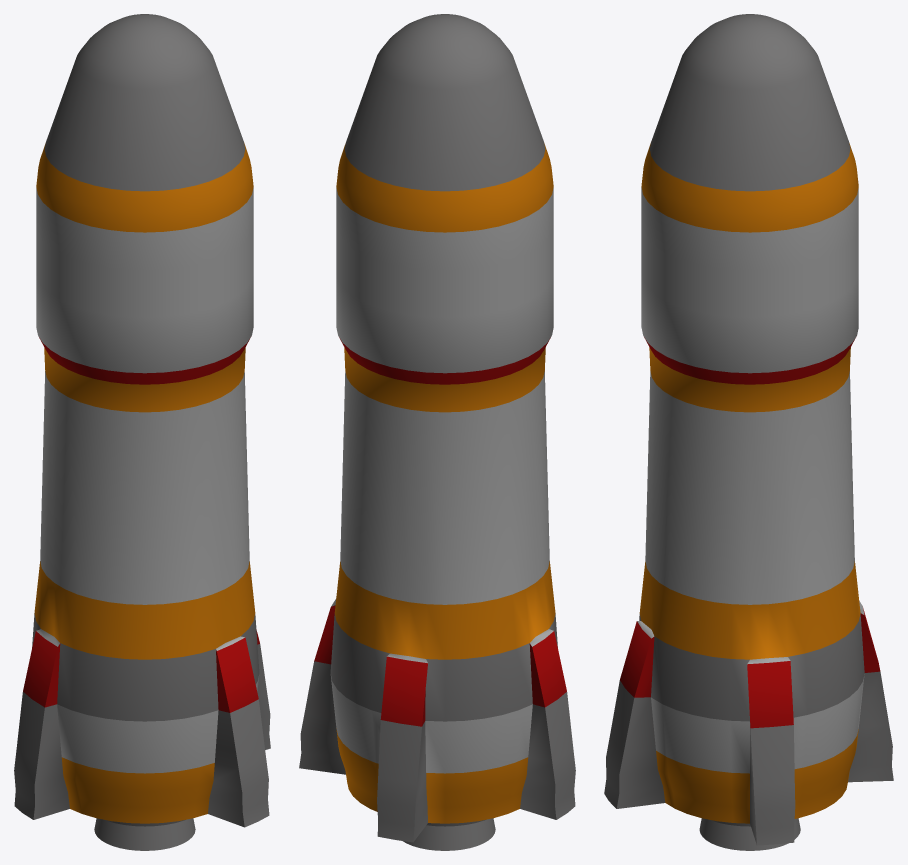
Rendered from torpedo.fbx.
3 views of the same model, side by side, from view 1: azimuth 30°, elevation 25°; view 2: azimuth 150°, elevation 25°; view 3: azimuth 270°, elevation 25° (orthographic).
Visible parts, largest first — view 1: Capsule; view 2: Capsule; view 3: Capsule.
Boxes of the visible parts, bbox=[...] form: Capsule: bbox=[14, 14, 270, 850]; Capsule: bbox=[299, 14, 575, 850]; Capsule: bbox=[604, 14, 893, 850].
Size of the model in its own units: 81.69 by 251 by 81.4.
